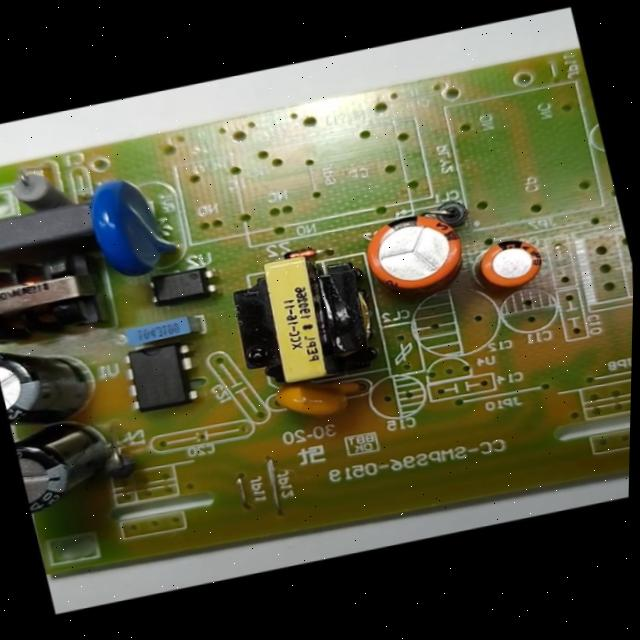Cap1: (355, 202, 478, 304)
Cap2: (466, 228, 557, 297)
Cap3: (0, 329, 106, 434)
Cap4: (8, 410, 126, 521)
MOSFET: (111, 334, 208, 418)
Mov: (78, 160, 198, 289)
Resistor: (0, 159, 72, 217)
Transformer: (216, 244, 386, 401), (0, 241, 125, 352)
